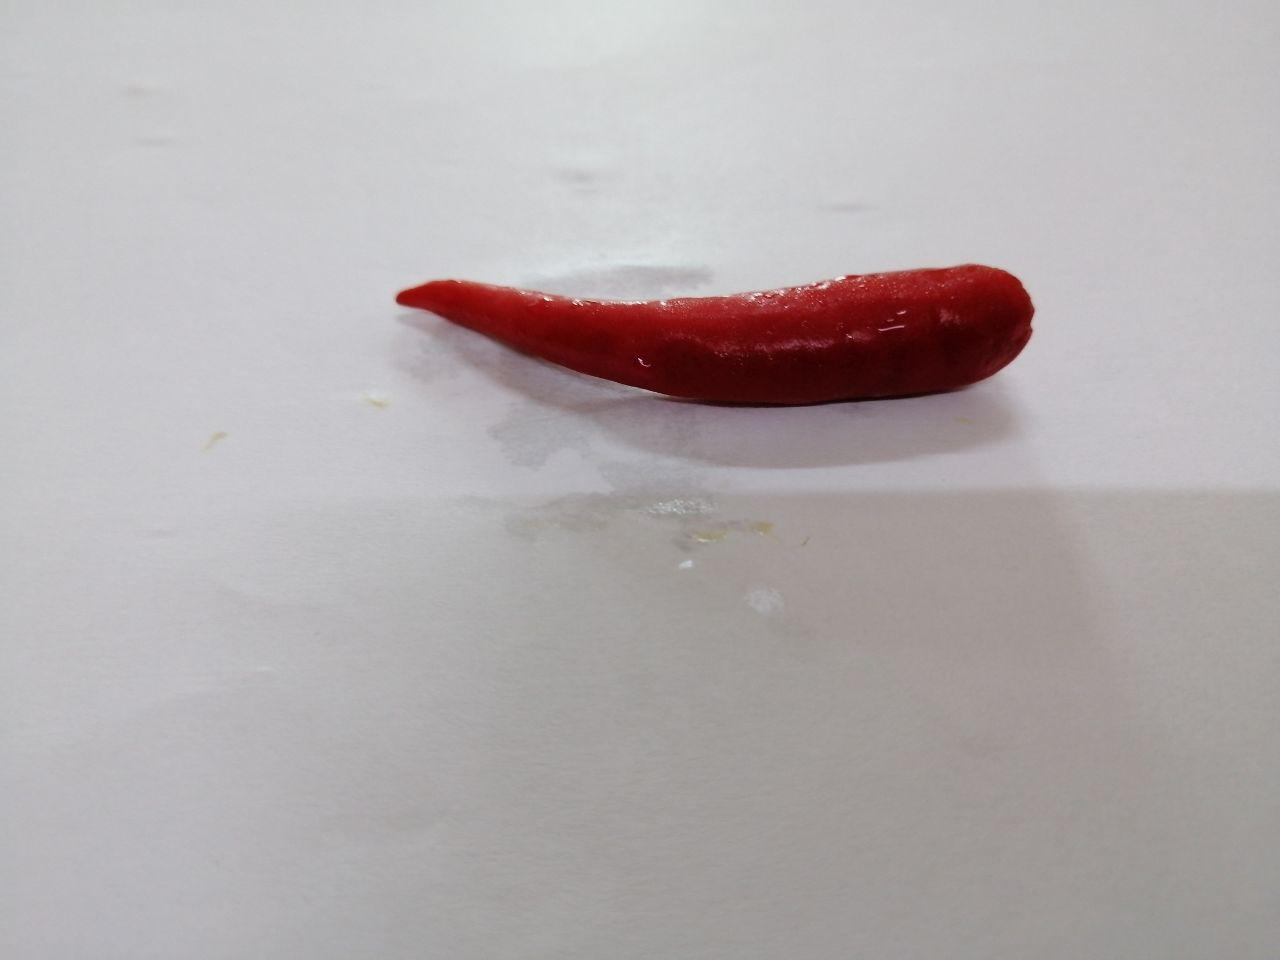lada merah: (391, 218, 1046, 418)
